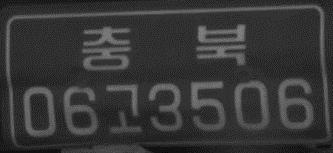0: (232, 76, 274, 134), (22, 84, 55, 141)
3: (147, 80, 186, 135)
5: (186, 79, 227, 130)
6: (271, 71, 315, 133), (60, 82, 99, 137)
고: (104, 81, 144, 137)
충북_D: (80, 17, 247, 75)
